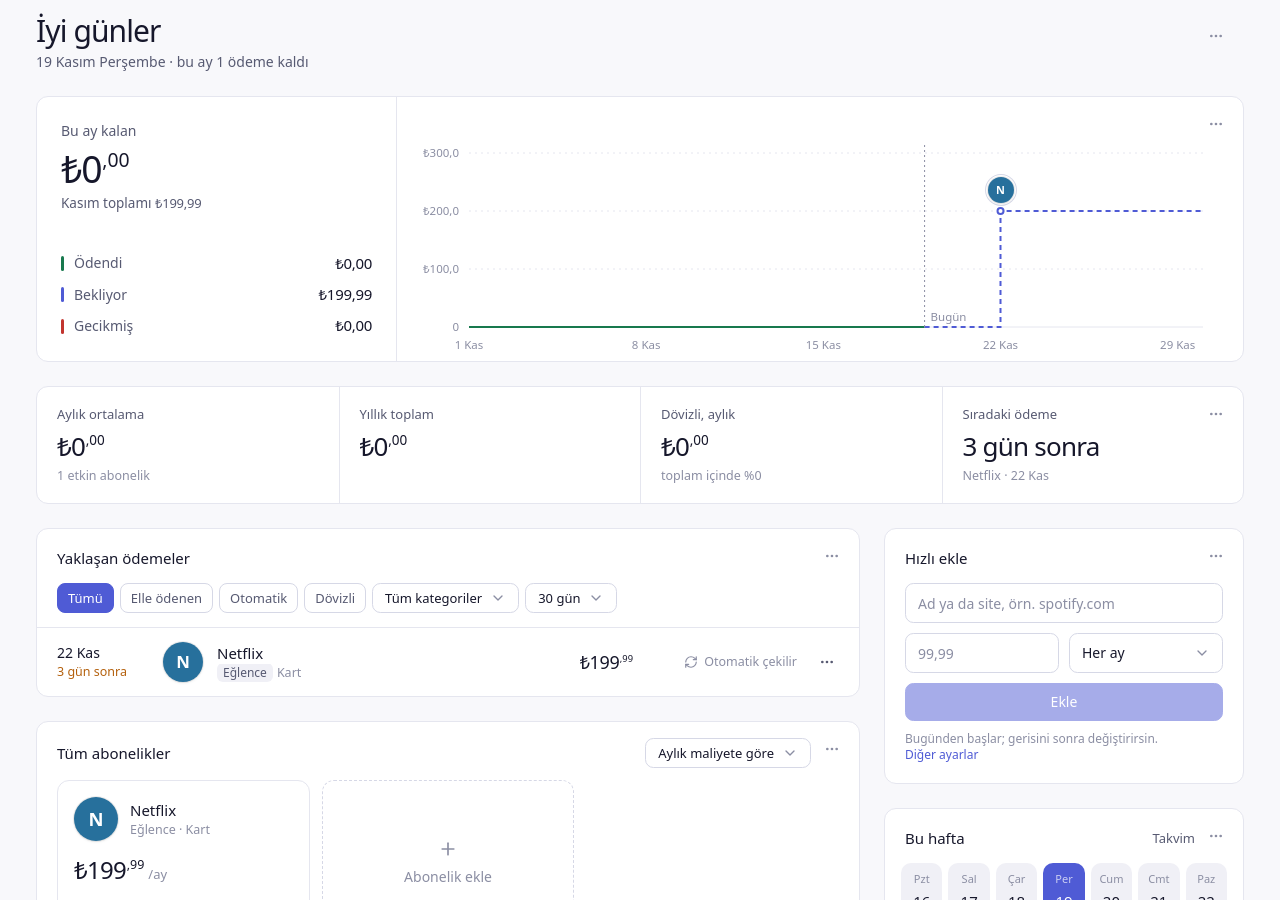
Scenario: Dashboard › skip calls /skip and shows undo
Click the button named "netflix: diğer işlemler" at (827, 662), box [811, 646, 843, 678]
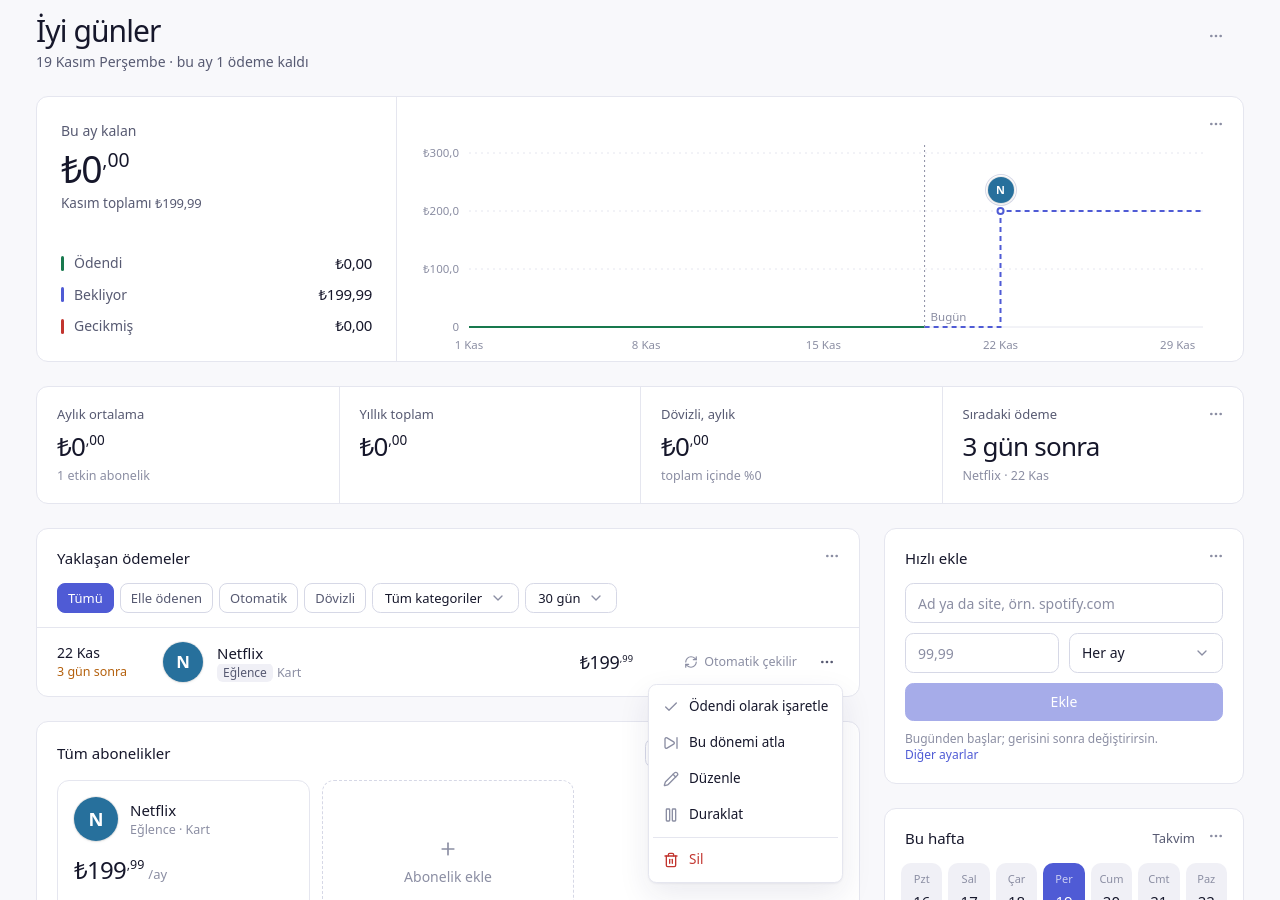
Click the menu item "Bu dönemi atla" at (724, 742), box [663, 733, 785, 751]
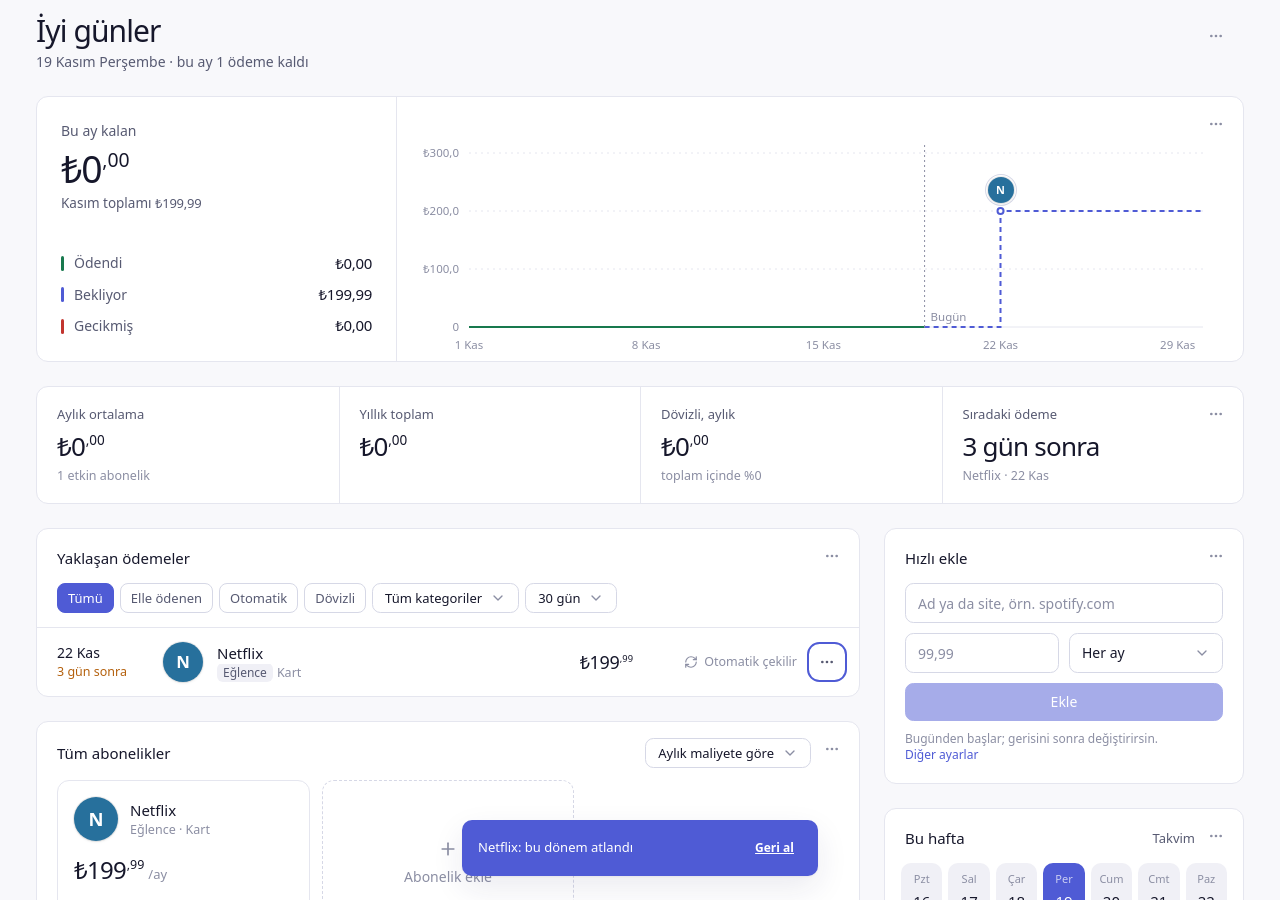
Expected: the button "Geri al" is shown, [747, 836, 802, 860]
